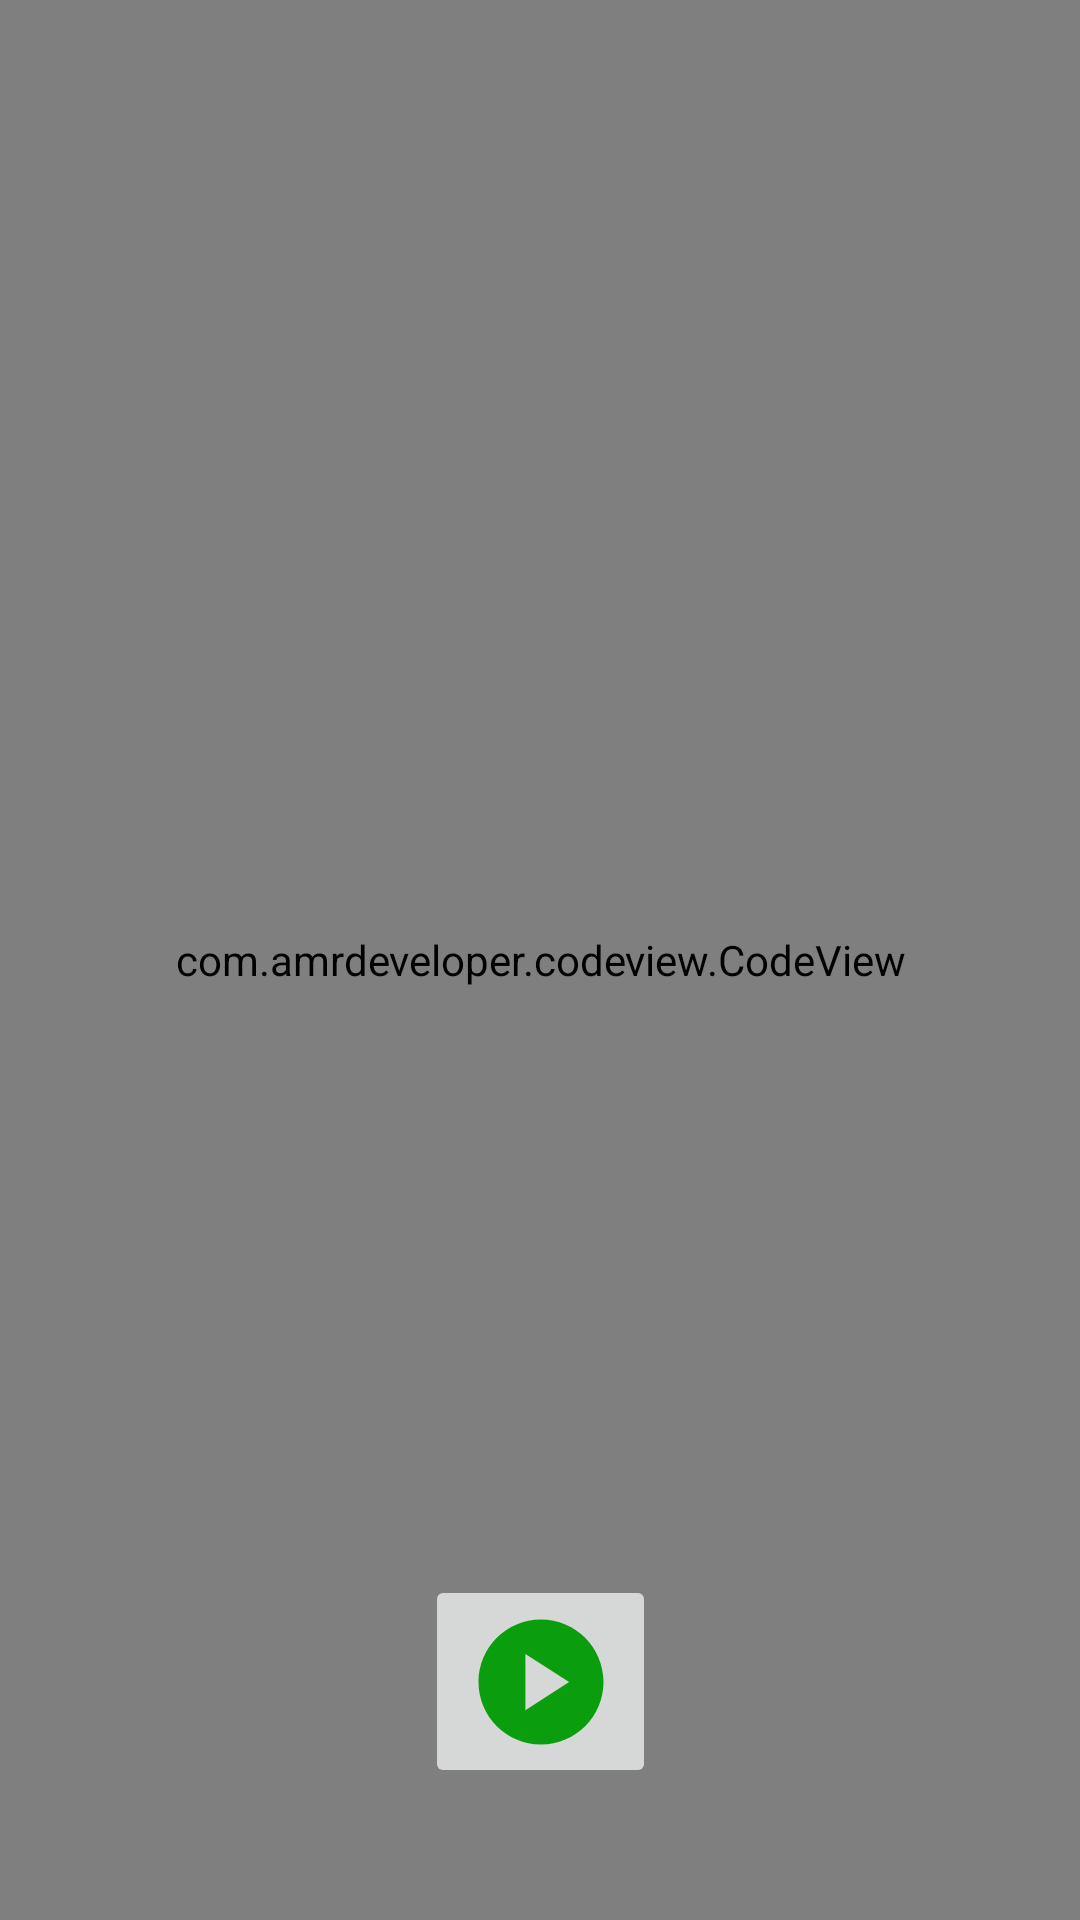

Point at icon controls on the screen. Image size 1080 × 1920, points as (x,y).
play circle: (540,1681)
